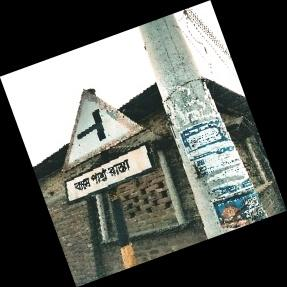Side-road-left: (62, 89, 155, 204)
